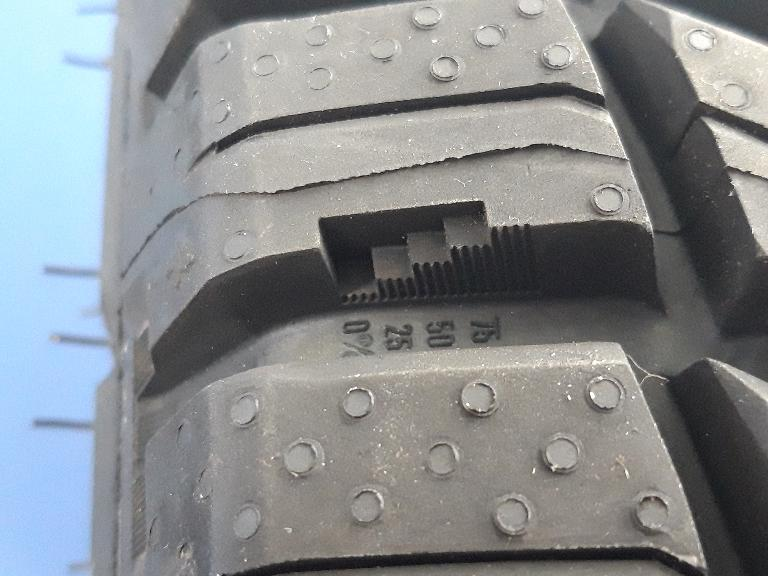temoin:100: (307, 193, 554, 315)
